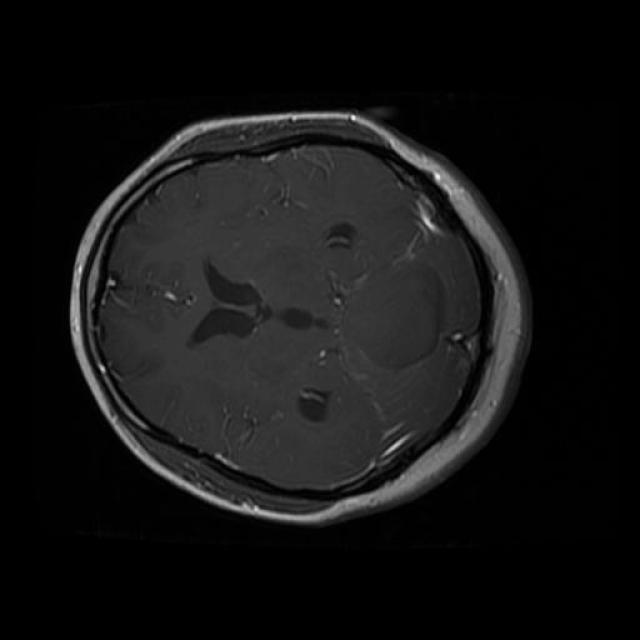Glioma: (350, 270, 443, 369)
